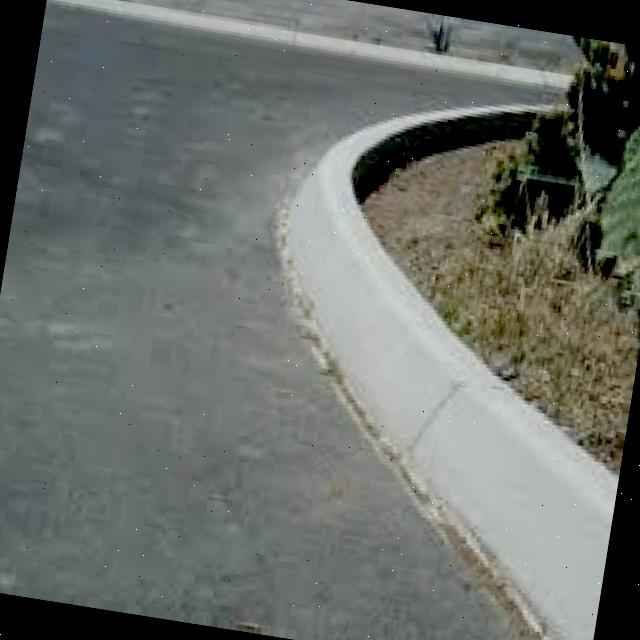curb: (338, 316, 639, 640), (48, 1, 580, 96), (266, 149, 448, 414)
